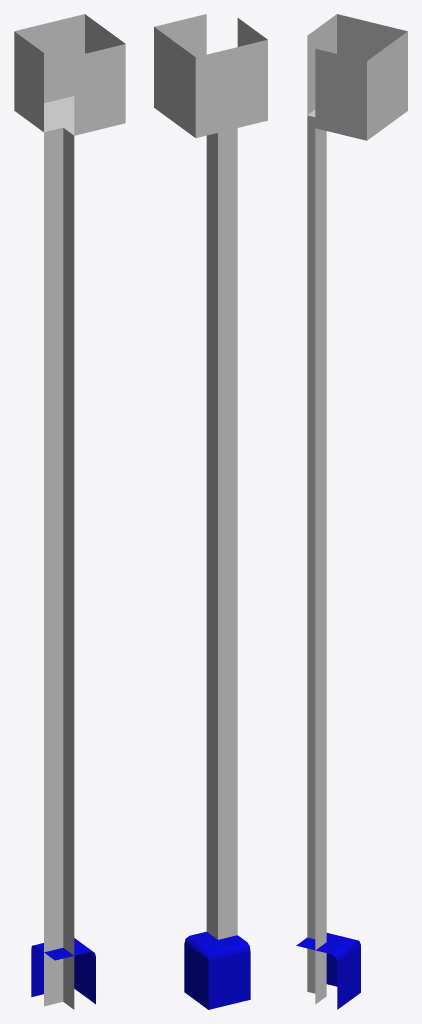
Rendered from SecuirtyWallCorner.fbx.
3 views of the same model, side by side, from view 1: azimuth 30°, elevation 25°; view 2: azimuth 210°, elevation 25°; view 3: azimuth 330°, elevation 25° (orthographic). The views are drawn at different scales.
Parts seen in each view (by area): view 1: Wall, Trim; view 2: Wall, Trim; view 3: Wall, Trim.
Part boxes in pixels (x1,y1,x2,y2): Wall: [14, 14, 125, 1009]; Trim: [31, 938, 95, 1004]; Wall: [154, 14, 267, 939]; Trim: [184, 931, 250, 1009]; Wall: [307, 14, 407, 1004]; Trim: [296, 933, 360, 1009].
Size of the model in its own units: 0.9221 by 11.87 by 0.922.
